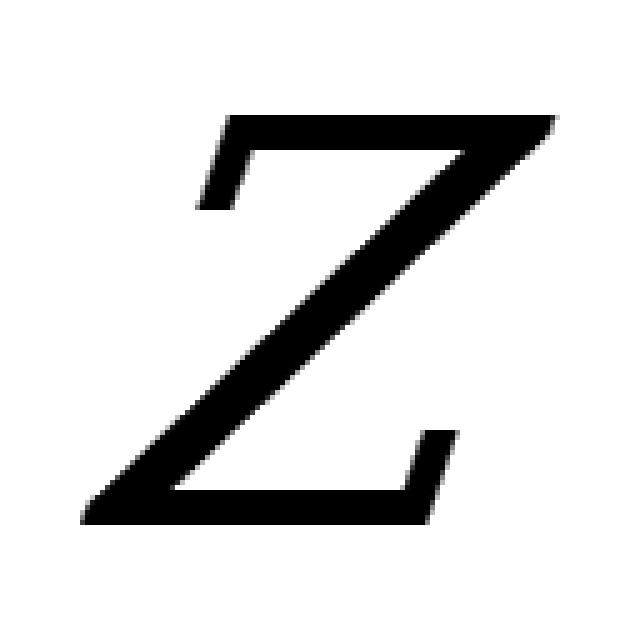Z: (75, 105, 555, 530)
